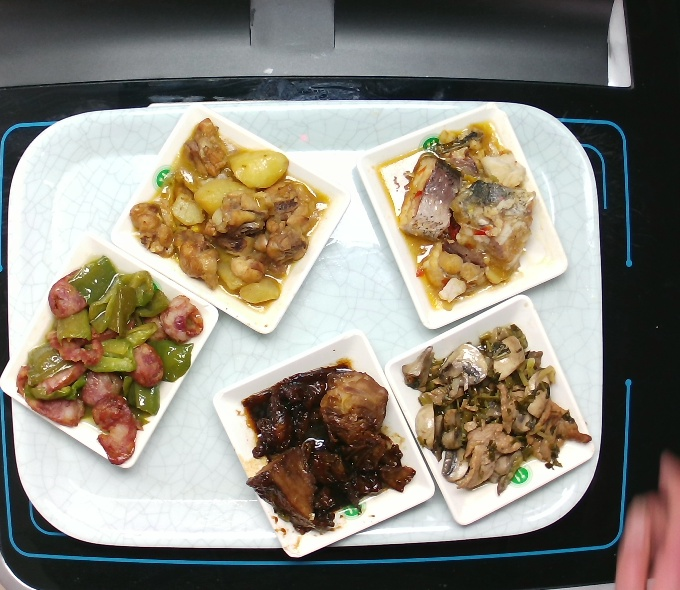wcq-JiangZhiYa: (241, 360, 417, 539)
wcq-MoGuRouPian: (401, 322, 592, 499)
wcq-QingJiaoXiangChang: (16, 253, 206, 467)
wcq-SuanCaiYu: (373, 118, 536, 309)
wcq-TuDouJiKuai: (127, 114, 330, 308)
